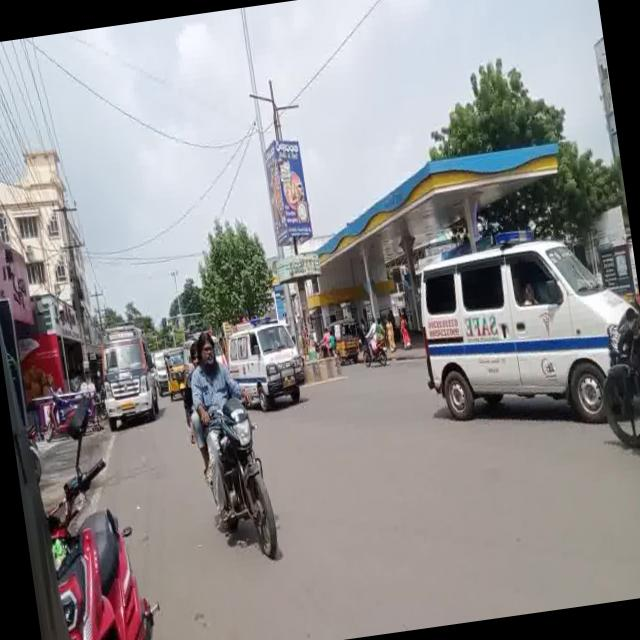ambulance: (410, 211, 633, 430), (86, 316, 160, 424), (224, 320, 304, 400)
